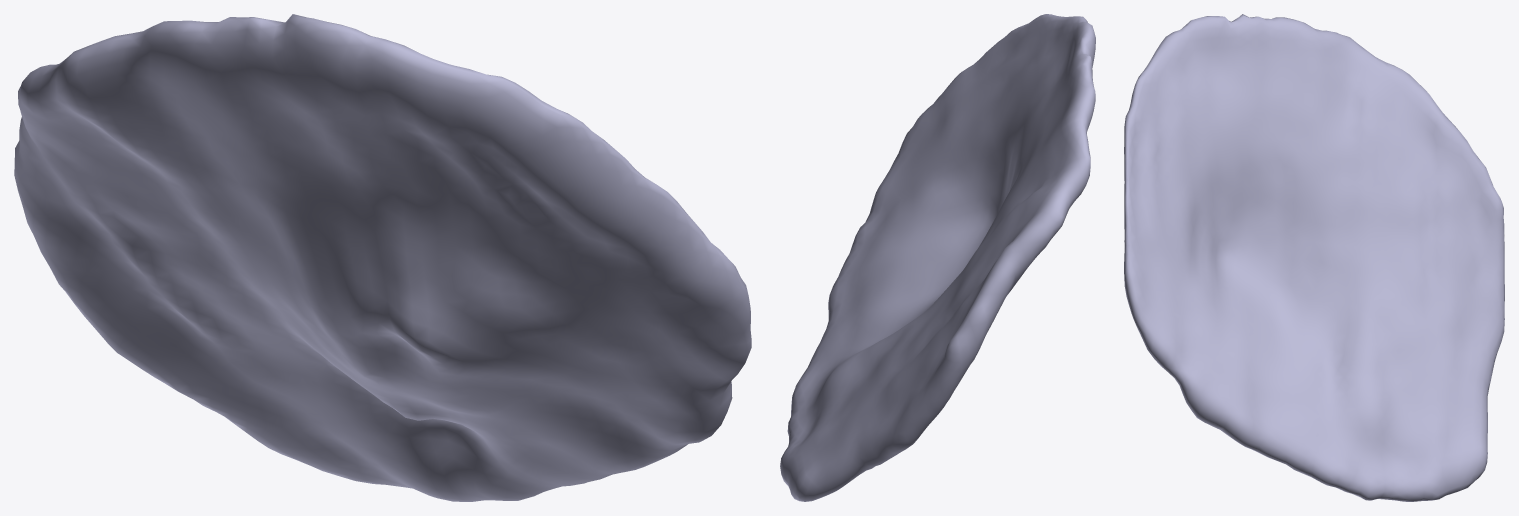
The model's file is tympanic-membrane.glb.
3 views of the same model, side by side, from view 1: azimuth 30°, elevation 25°; view 2: azimuth 150°, elevation 25°; view 3: azimuth 270°, elevation 25° (orthographic). The views are drawn at different scales.
Parts seen in each view (by area): view 1: 09_Tympanic Membrane.ply; view 2: 09_Tympanic Membrane.ply; view 3: 09_Tympanic Membrane.ply.
Boxes of the visible parts, left/top/right/bottom form: 09_Tympanic Membrane.ply: left=14, top=14, right=751, bottom=501; 09_Tympanic Membrane.ply: left=780, top=14, right=1095, bottom=501; 09_Tympanic Membrane.ply: left=1124, top=14, right=1504, bottom=501.
Size of the model in its own units: 7.69 by 9.52 by 8.27.
